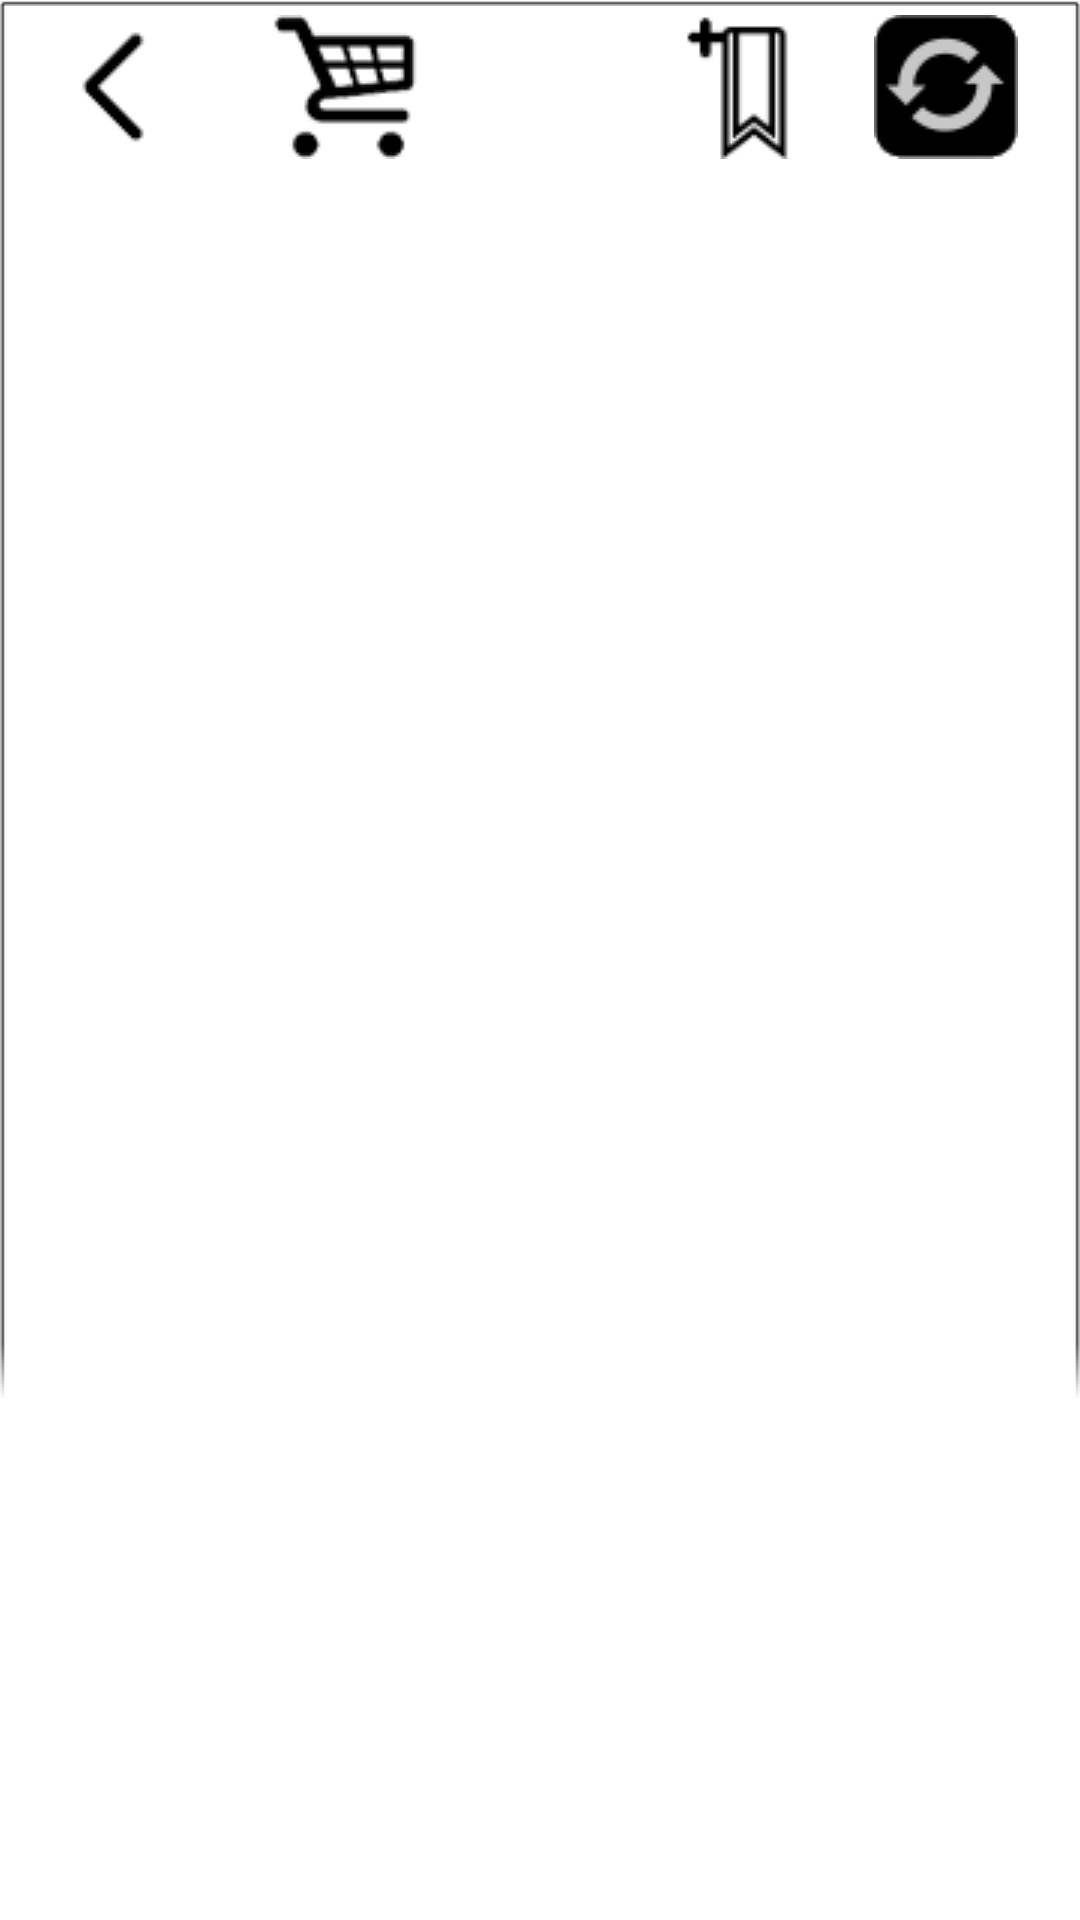

Named icons in this screenshot (1080×1920) and their bounding boxes, (x1=x1, y1=y1, x2=x2, y2=y2):
add bookmark: (x1=687, y1=17, x2=788, y2=159)
